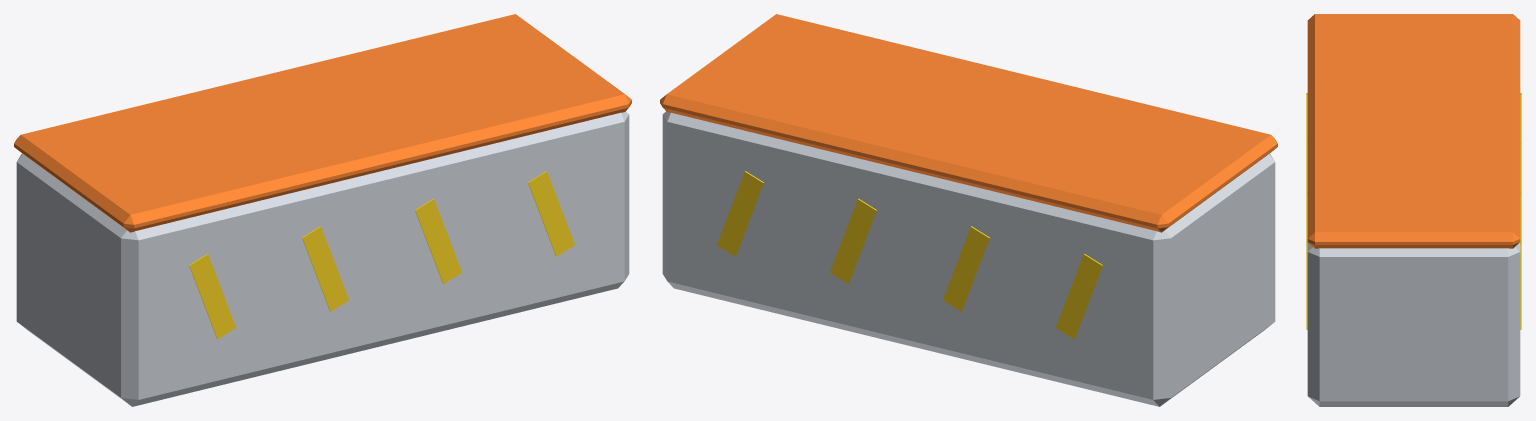
Rendered from obstacle.glb.
3 views of the same model, side by side, from view 1: azimuth 30°, elevation 25°; view 2: azimuth 150°, elevation 25°; view 3: azimuth 270°, elevation 25° (orthographic). The views are drawn at different scales.
Visible parts, largest first — view 1: Concrete, Bright cap, Hazard slash.004, Hazard slash, Hazard slash.002, Hazard slash.006; view 2: Concrete, Bright cap, Hazard slash.005, Hazard slash.001, Hazard slash.003, Hazard slash.007; view 3: Bright cap, Concrete.
Part boxes in pixels (x1=…): Concrete: x1=16, y1=111, x2=629, y2=406; Bright cap: x1=14, y1=14, x2=631, y2=232; Hazard slash.004: x1=415, y1=198, x2=461, y2=284; Hazard slash: x1=189, y1=254, x2=235, y2=339; Hazard slash.002: x1=302, y1=226, x2=348, y2=311; Hazard slash.006: x1=528, y1=171, x2=574, y2=256; Concrete: x1=662, y1=111, x2=1275, y2=406; Bright cap: x1=660, y1=14, x2=1277, y2=232; Hazard slash.005: x1=830, y1=198, x2=876, y2=284; Hazard slash.001: x1=1056, y1=254, x2=1102, y2=339; Hazard slash.003: x1=943, y1=226, x2=989, y2=311; Hazard slash.007: x1=717, y1=171, x2=763, y2=256; Bright cap: x1=1307, y1=14, x2=1520, y2=248; Concrete: x1=1307, y1=242, x2=1520, y2=406.
Size of the model in its own units: 9 by 3.3 by 3.64.
